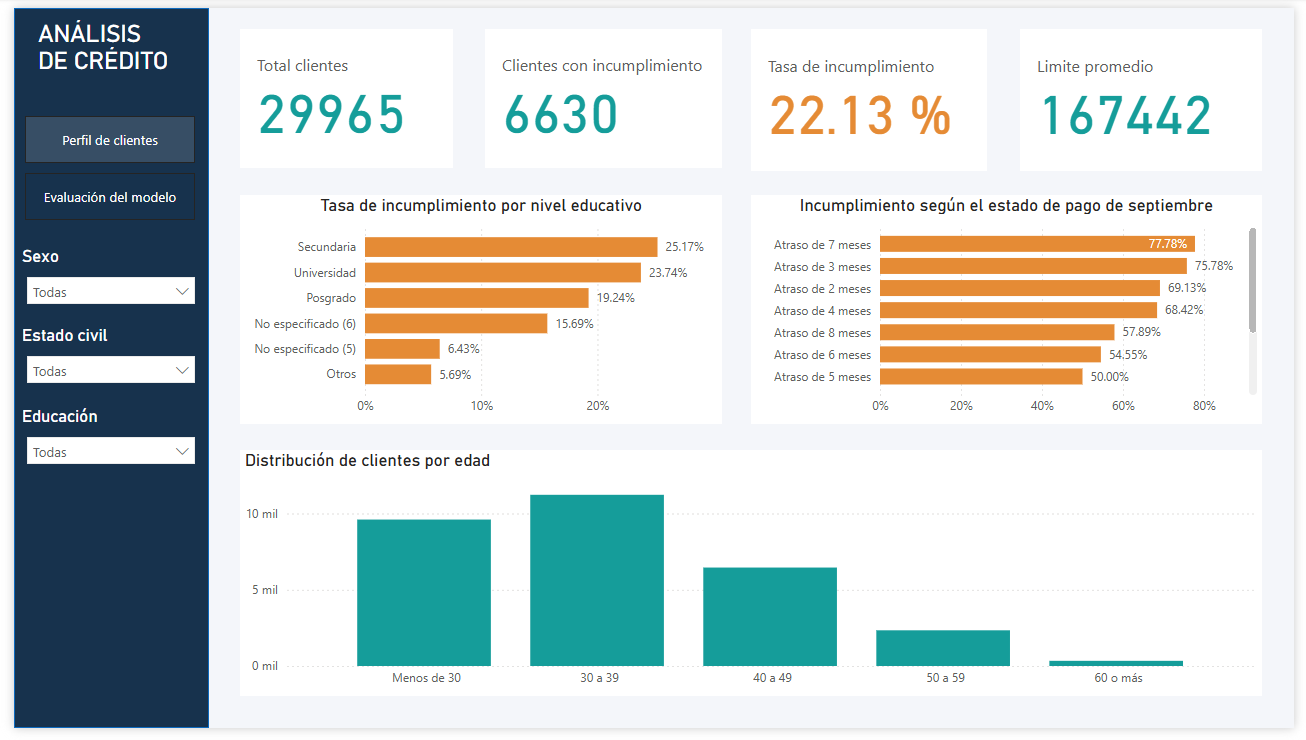

The dashboard page shown, as its layout file describes it:
{"tool":"powerbi","page":{"name":"Perfil de clientes","canvas":[1280,720],"ordinal":0},"visuals":[{"type":"cardVisual","fields":{"Data":["clientes.Total clientes"]},"box":[225.6,21.1,213.3,138.9],"z":0},{"type":"cardVisual","fields":{"Data":["clientes.Clientes con incumplimiento"]},"box":[471.1,21.1,236.7,138.9],"z":1000},{"type":"cardVisual","fields":{"Data":["clientes.Tasa de incumplimiento"]},"box":[736.7,21.1,236.7,142.2],"z":2000},{"type":"cardVisual","fields":{"Data":["clientes.Limite promedio"]},"box":[1005.6,21.1,242.2,142.2],"z":3000},{"type":"clusteredBarChart","title":"Tasa de incumplimiento por nivel educativo","fields":{"Category":["clientes.EDUCATION_etiqueta"],"Y":["clientes.Tasa de incumplimiento"]},"box":[225.6,186.7,482.2,228.9],"z":4000},{"type":"clusteredBarChart","title":"Incumplimiento según el estado de pago de septiembre","fields":{"Category":["clientes.PAY_0_etiqueta"],"Y":["clientes.Tasa de incumplimiento"]},"box":[736.7,186.7,511.1,228.9],"z":5000},{"type":"clusteredColumnChart","title":"Distribución de clientes por edad","fields":{"Category":["clientes.Grupo de edad"],"Y":["clientes.Total clientes"]},"box":[225.6,442.2,1022.2,245.6],"z":6000},{"type":"shape","box":[0,0,195,720],"z":7000},{"type":"textbox","title":"ANÁLISIS DE CRÉDITO","box":[18.9,12.2,144.4,62.2],"z":8000},{"type":"slicer","title":"Sexo","fields":{"Values":["clientes.SEX_etiqueta"]},"box":[3.3,237.9,187.8,70],"z":9000},{"type":"slicer","title":"Estado civil","fields":{"Values":["clientes.MARRIAGE_etiqueta"]},"box":[3.3,316.8,187.8,70],"z":10000},{"type":"slicer","title":"Educación","fields":{"Values":["clientes.EDUCATION_etiqueta"]},"box":[3.3,397.9,187.8,70],"z":11000},{"type":"pageNavigator","box":[11.1,107.8,170,104.4],"z":13000}]}

Visuals, with their boxes in screenshot pixels (x1, y1, x2, y2), scaled from the page's 1280x720 canvas onto the 1306x740 screenshot:
cardVisual - clientes.Total clientes: (230,22,448,164)
cardVisual - clientes.Clientes con incumplimiento: (481,22,722,164)
cardVisual - clientes.Tasa de incumplimiento: (752,22,993,168)
cardVisual - clientes.Limite promedio: (1026,22,1273,168)
"Tasa de incumplimiento por nivel educativo" clusteredBarChart: (230,192,722,427)
"Incumplimiento según el estado de pago de septiembre" clusteredBarChart: (752,192,1273,427)
"Distribución de clientes por edad" clusteredColumnChart: (230,454,1273,707)
shape: (0,0,199,739)
"ANÁLISIS DE CRÉDITO" textbox: (19,13,167,76)
"Sexo" slicer: (3,245,195,316)
"Estado civil" slicer: (3,326,195,398)
"Educación" slicer: (3,409,195,481)
pageNavigator: (11,111,185,218)
